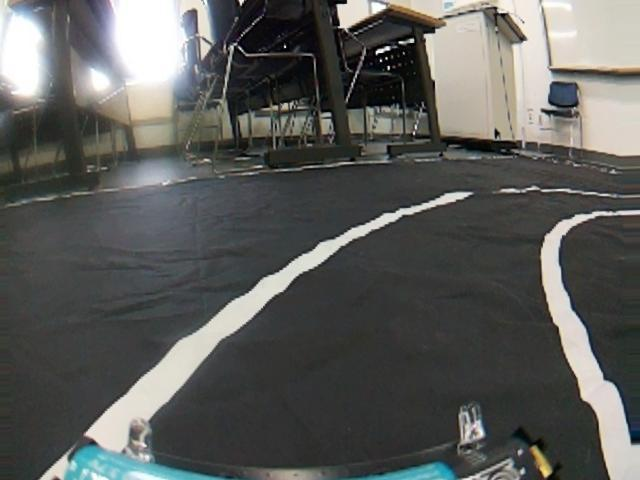right: (10, 183, 640, 480)
